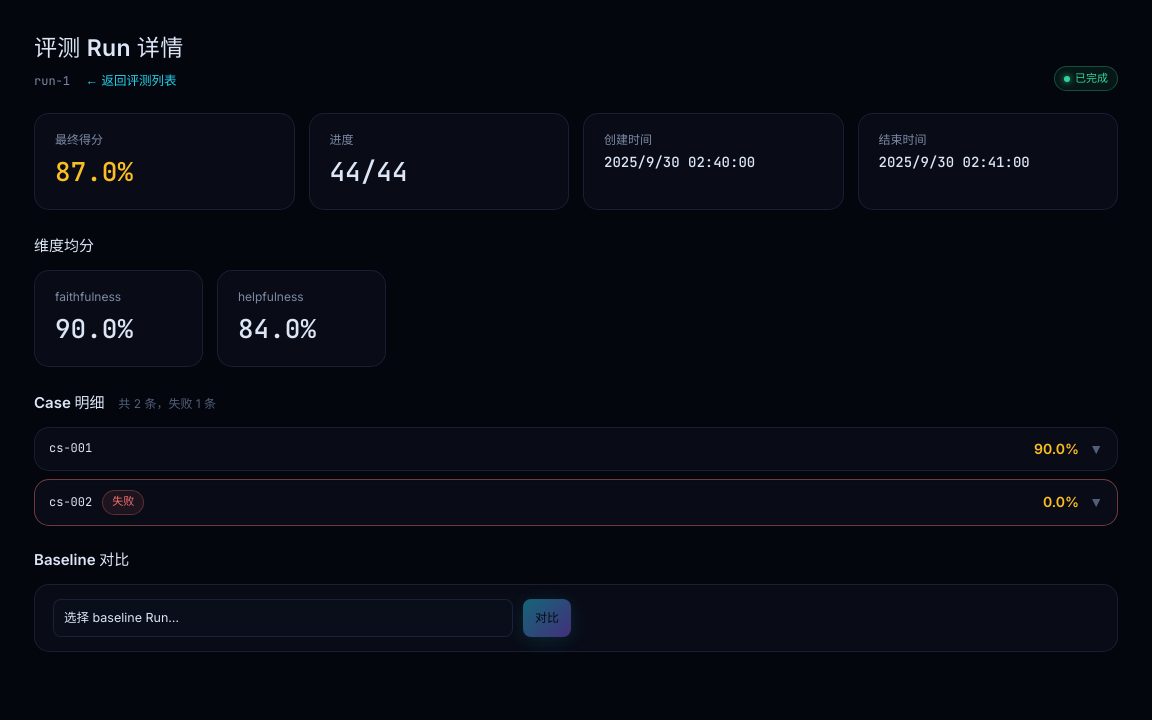
EvaluationDetailPage › runs a baseline comparison and renders deltas
Select "run-0（80.0%）" in the dropdown with class "run-select": (283, 618) [53,598,513,636]
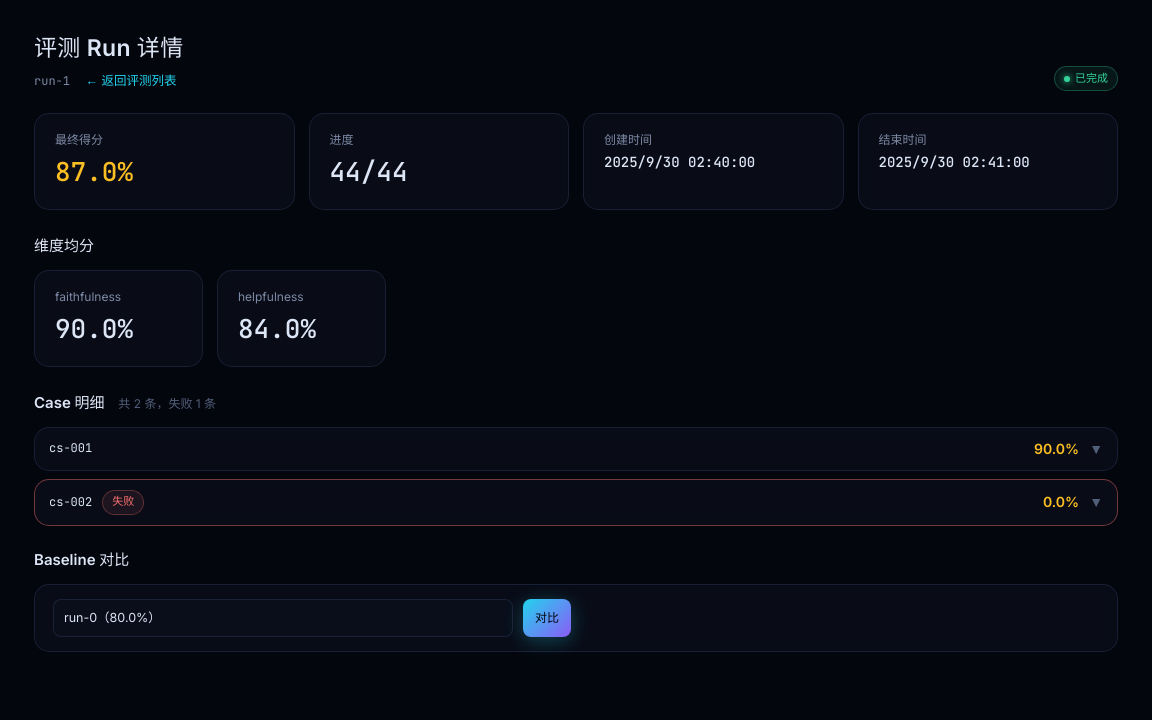
Click the button "对比": (547, 618) [523,598,571,636]
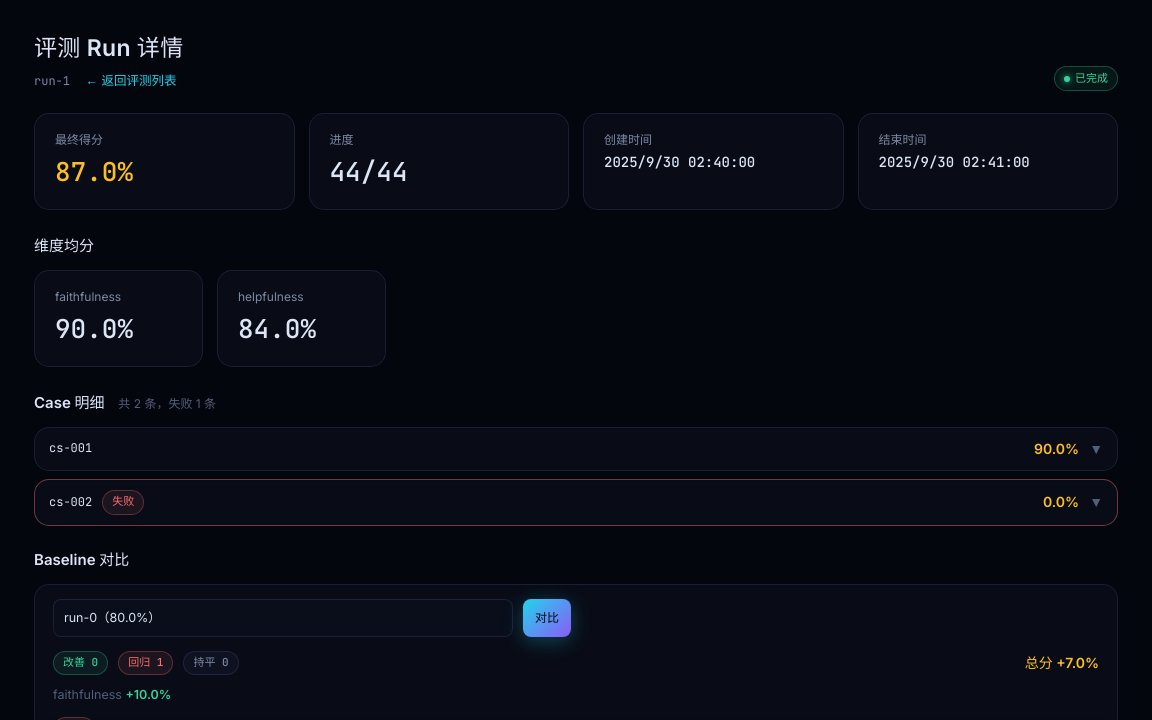
Check: the text "cs-002" is shown, box [49,493,92,512]
Check: the text "回归 1" is shown, box [118,650,173,675]
Check: the text "+7.0%" is shown, box [1025,654,1099,671]
